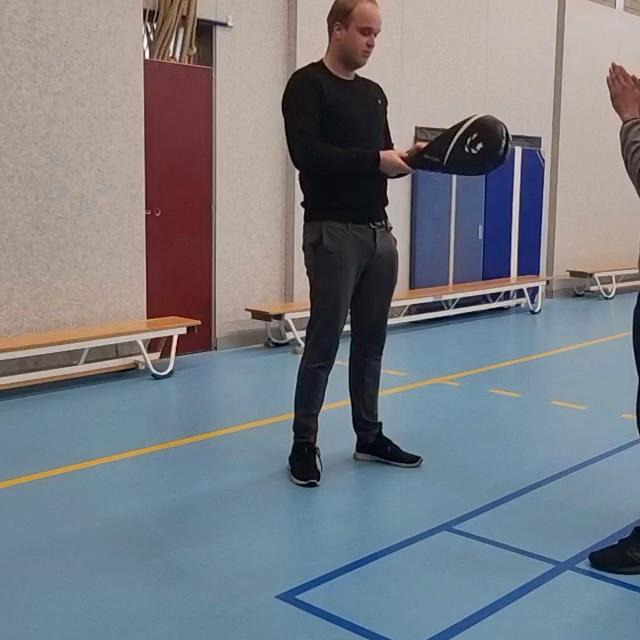paddle: (405, 112, 514, 175)
